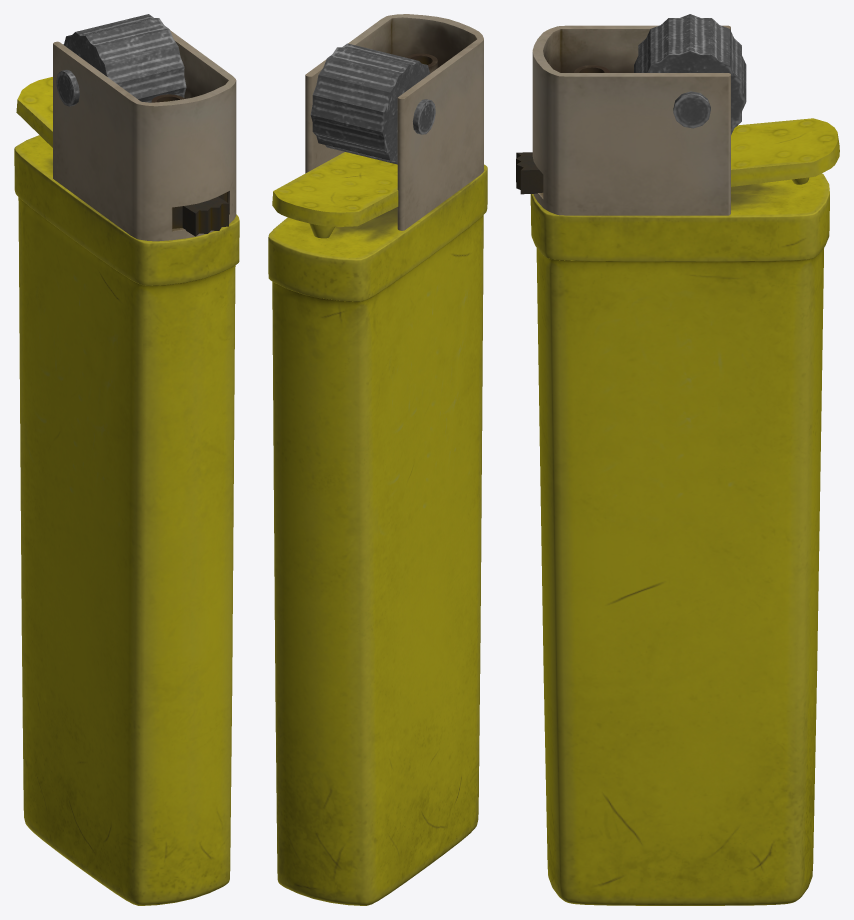
Rendered from Lighter.fbx.
3 renders of one model, left to right at view 1: azimuth 30°, elevation 25°; view 2: azimuth 150°, elevation 25°; view 3: azimuth 270°, elevation 25°, orthographic. The views are drawn at different scales.
Parts seen in each view (by area): view 1: Lighter; view 2: Lighter; view 3: Lighter.
Part boxes in pixels (<box>): Lighter: <box>14,14,239,905</box>; Lighter: <box>268,14,487,905</box>; Lighter: <box>516,14,839,905</box>.
Bounding box in the file's own units: 2.14 × 14.96 × 5.16.
1 material, 1 textured.
